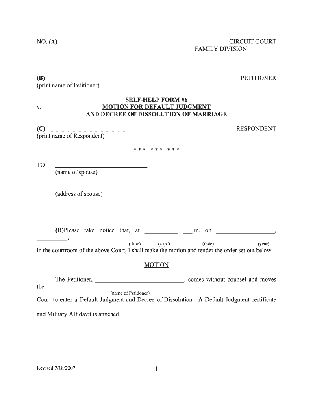textline: (54, 160, 147, 169), (45, 74, 127, 83), (45, 125, 127, 134), (94, 276, 185, 284), (215, 225, 275, 235), (162, 37, 228, 46), (57, 38, 122, 46), (143, 227, 178, 235), (35, 234, 68, 242), (247, 46, 277, 54), (182, 226, 193, 234)
